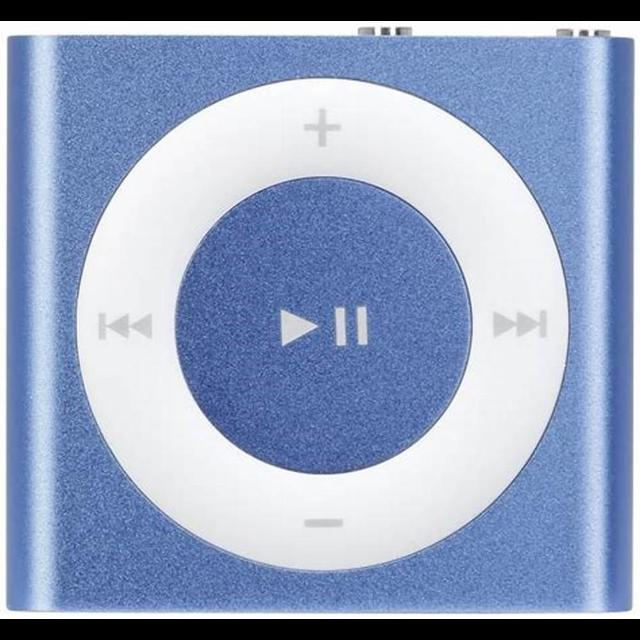Music-Player: (0, 22, 640, 616)
